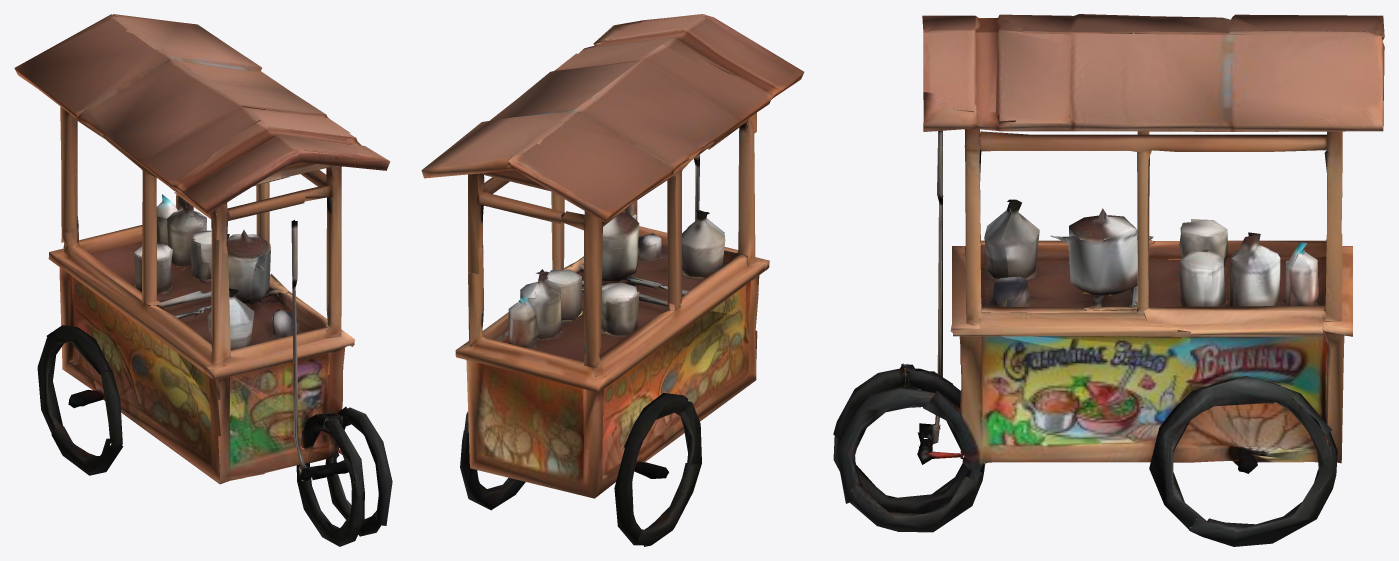
Rendered from gerobak.glb.
The picture shows the model from 3 angles, left to right: view 1: azimuth 30°, elevation 25°; view 2: azimuth 150°, elevation 25°; view 3: azimuth 270°, elevation 25°; orthographic projection. The views are drawn at different scales.
Visible parts, largest first — view 1: gerobak; view 2: gerobak; view 3: gerobak.
Boxes of the visible parts, x1,y1,x2,y2 form: gerobak: [14, 14, 392, 546]; gerobak: [421, 14, 804, 546]; gerobak: [833, 14, 1384, 546].
Size of the model in its own units: 0.8513 by 1.71 by 1.79.
1 material, 1 textured.
